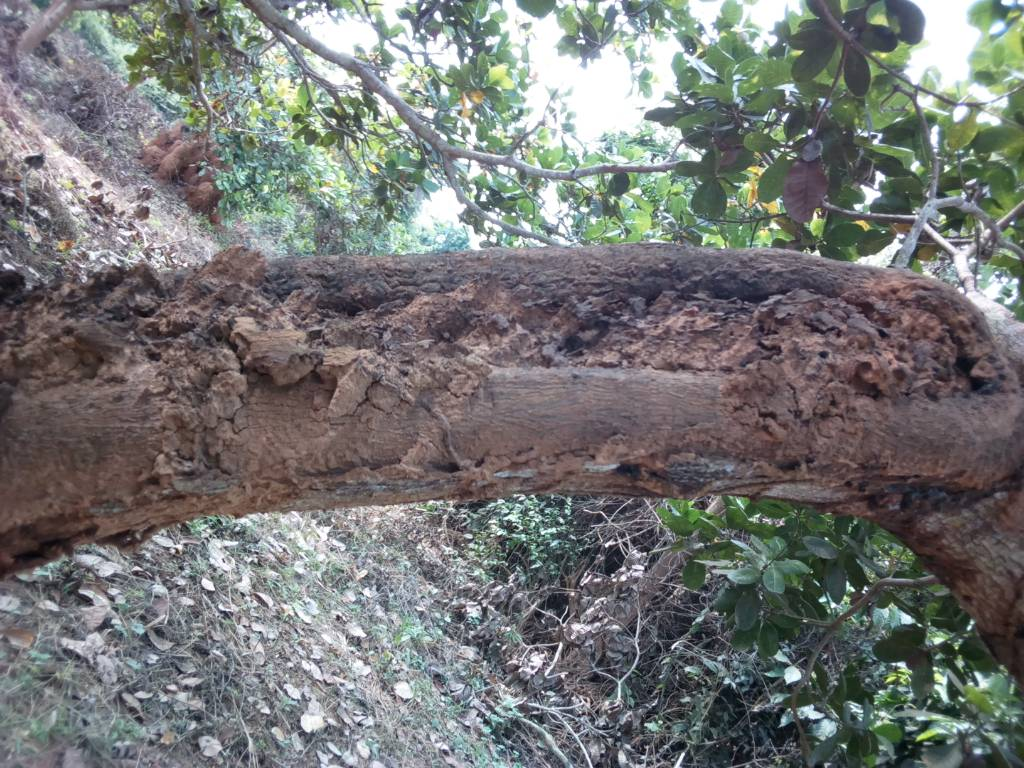Termites: (2, 262, 997, 562)
